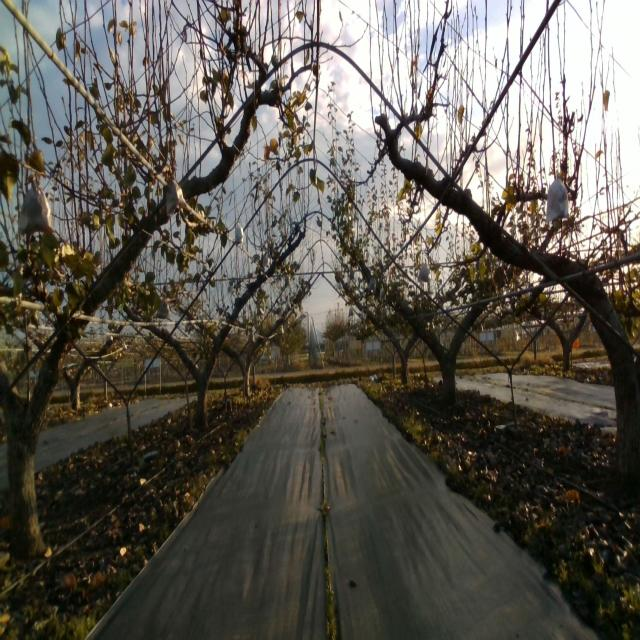pearbags: (17, 174, 55, 236), (546, 172, 570, 223), (166, 179, 187, 217), (416, 258, 429, 282)
